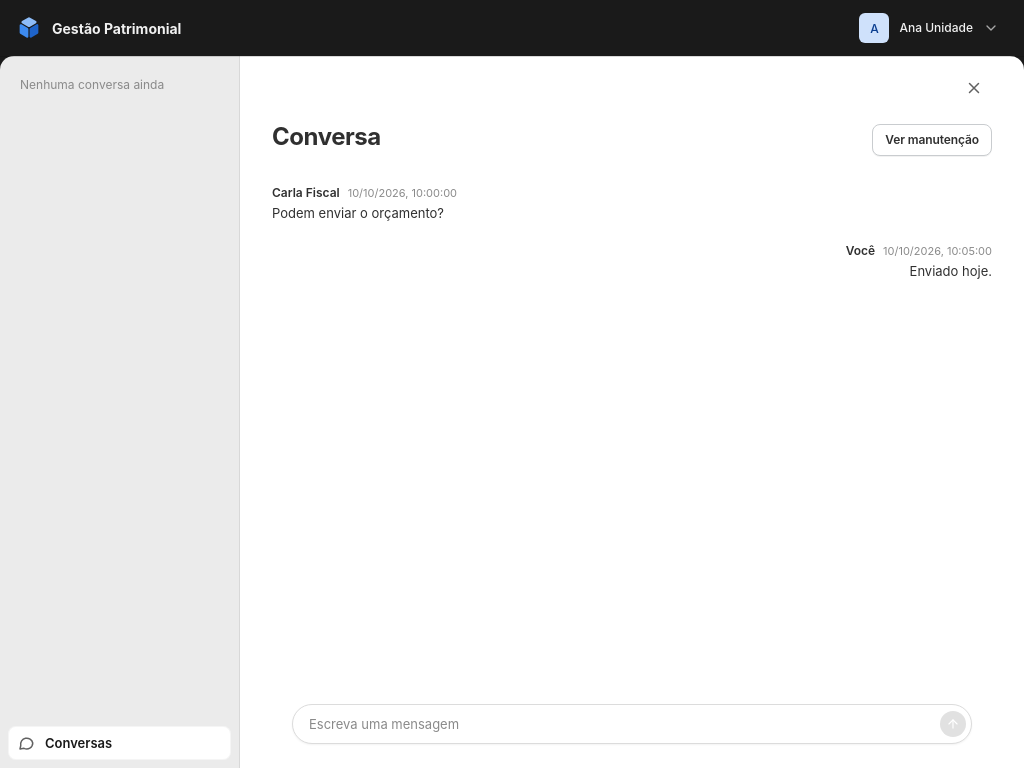
Test: Chat da manutenção › mostra a conversa, identifica as próprias mensagens e permite enviar
The width and height of the screenshot is (1024, 768).
Expected: the text "Podem enviar o orçamento?" is shown, [272,204,457,224]
Expected: the text "Carla Fiscal" is shown, [272,184,340,202]
Type "  Obrigada!  " into the text box labelled "mensagem". click: (620,724)
box: [309,710,932,738]
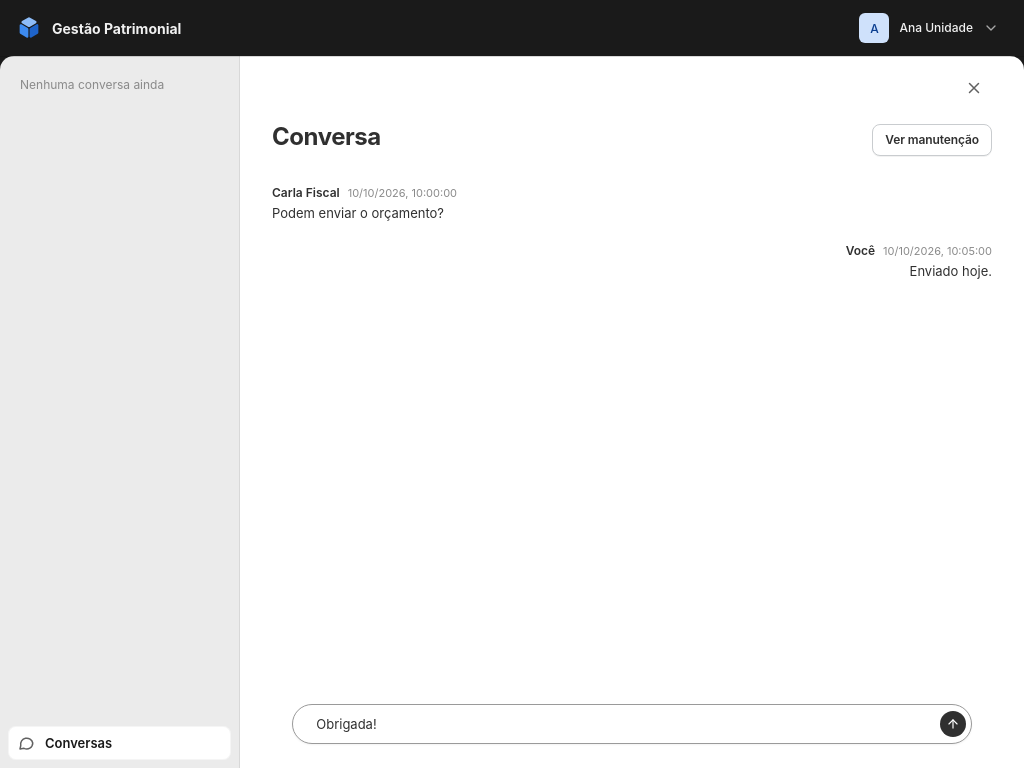
Click the button named "Enviar mensagem". click: (953,724)
box: [940,711,966,737]
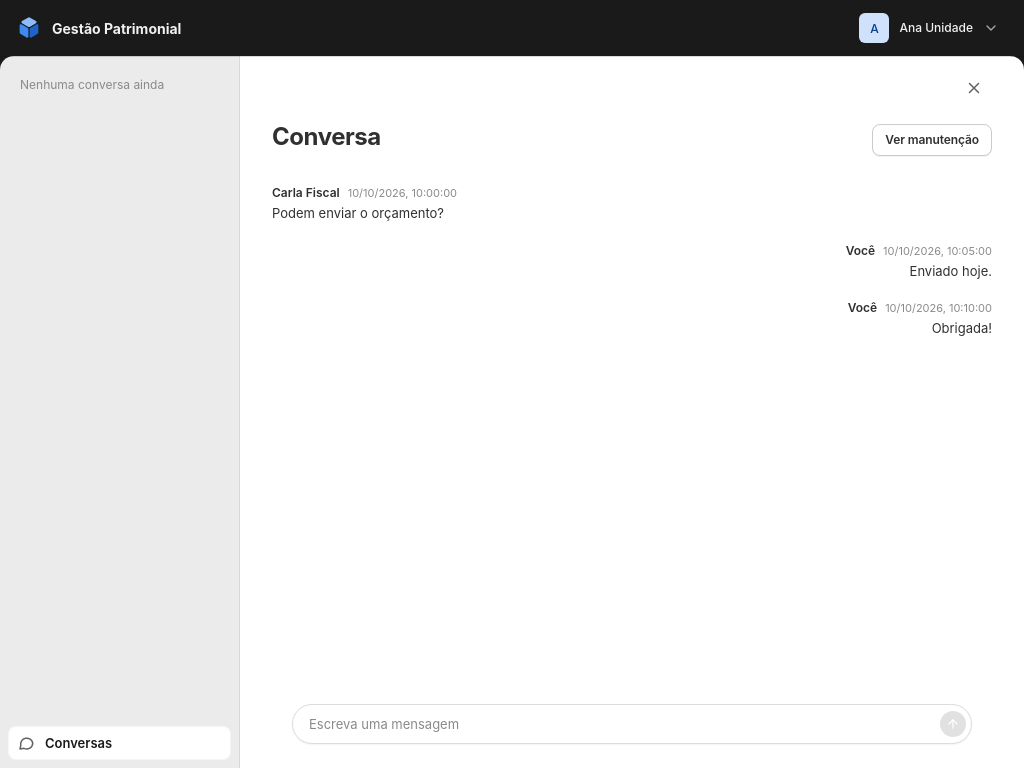
Expected: the text "Obrigada!" is shown, [932,320,992,336]
Expected: the text box labelled "mensagem" is empty, [309,710,932,738]
